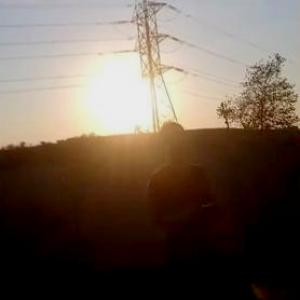follow: (142, 118, 224, 299)
